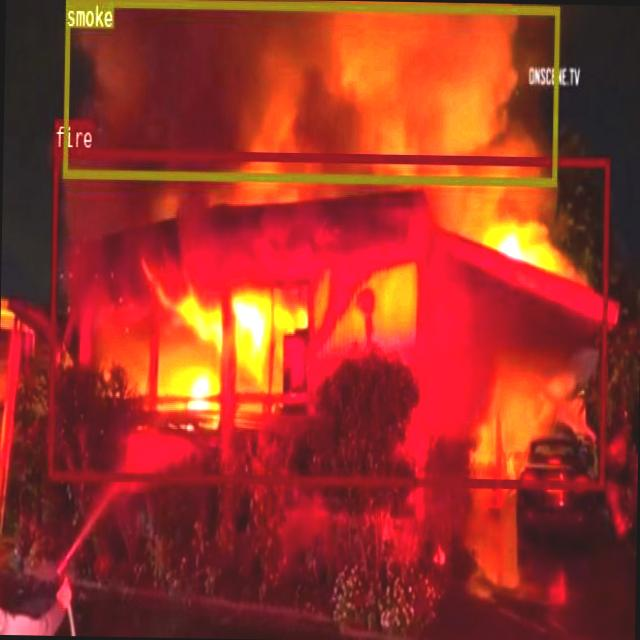fire: (47, 146, 608, 486)
smoke: (61, 0, 558, 185)
